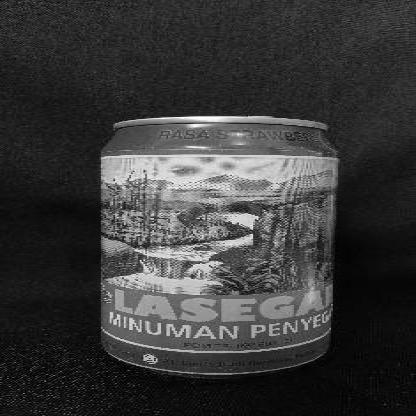alumunium_can: (100, 116, 340, 379)
